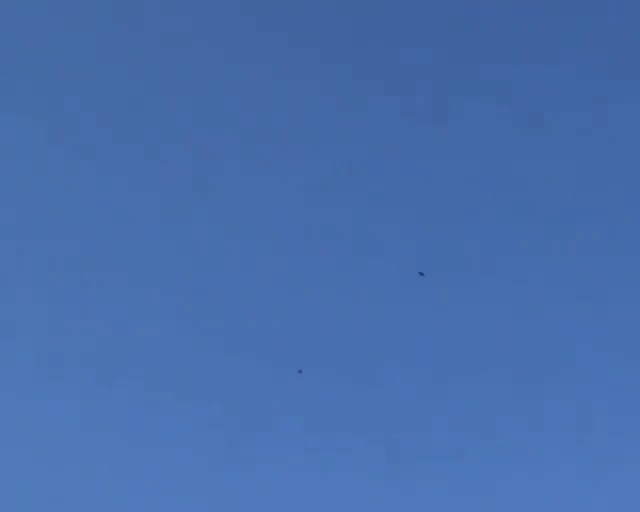BIRD: (296, 367, 304, 375)
